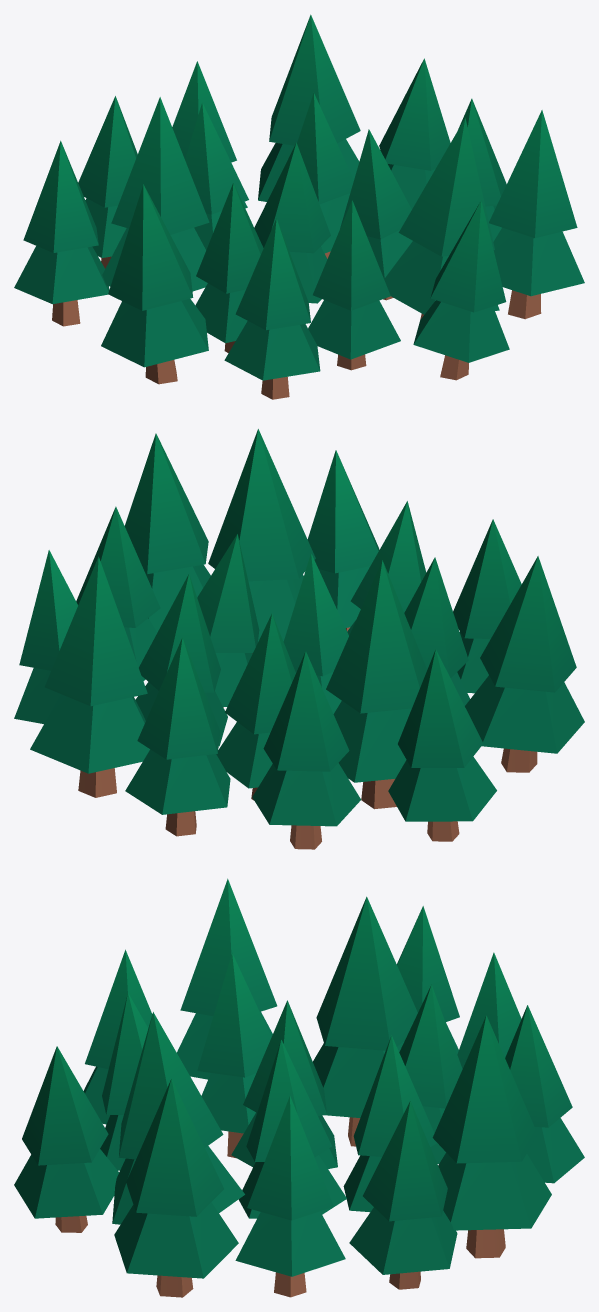
Rendered from forest_c.glb.
3 renders of one model, top to bottom at view 1: azimuth 30°, elevation 25°; view 2: azimuth 150°, elevation 25°; view 3: azimuth 270°, elevation 25°, orthographic. The views are drawn at different scales.
Parts seen in each view (by area): view 1: trees_A_large; view 2: trees_A_large; view 3: trees_A_large.
Boxes of the visible parts, x1=… form: trees_A_large: x1=14, y1=14, x2=584, y2=399; trees_A_large: x1=14, y1=429, x2=584, y2=849; trees_A_large: x1=14, y1=878, x2=584, y2=1297.
Bounding box in the file's own units: 1.95 × 0.9264 × 1.97.
1 material, 1 textured.
